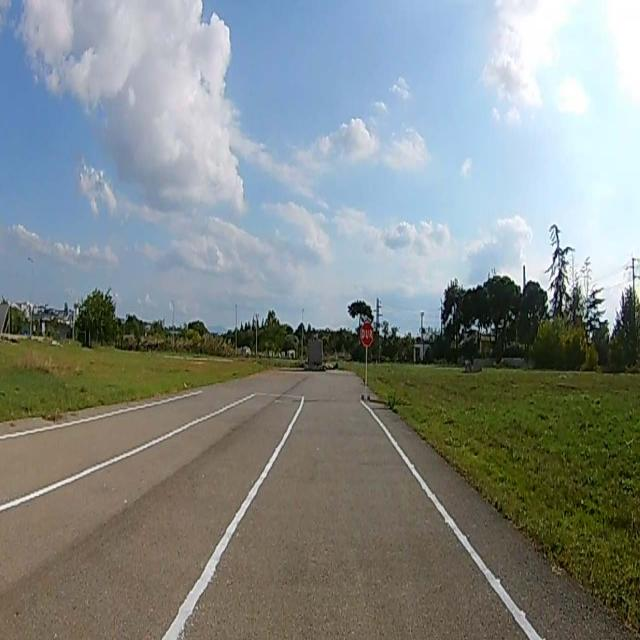dur: (361, 323, 375, 344)
